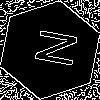N: (25, 25, 79, 69)
